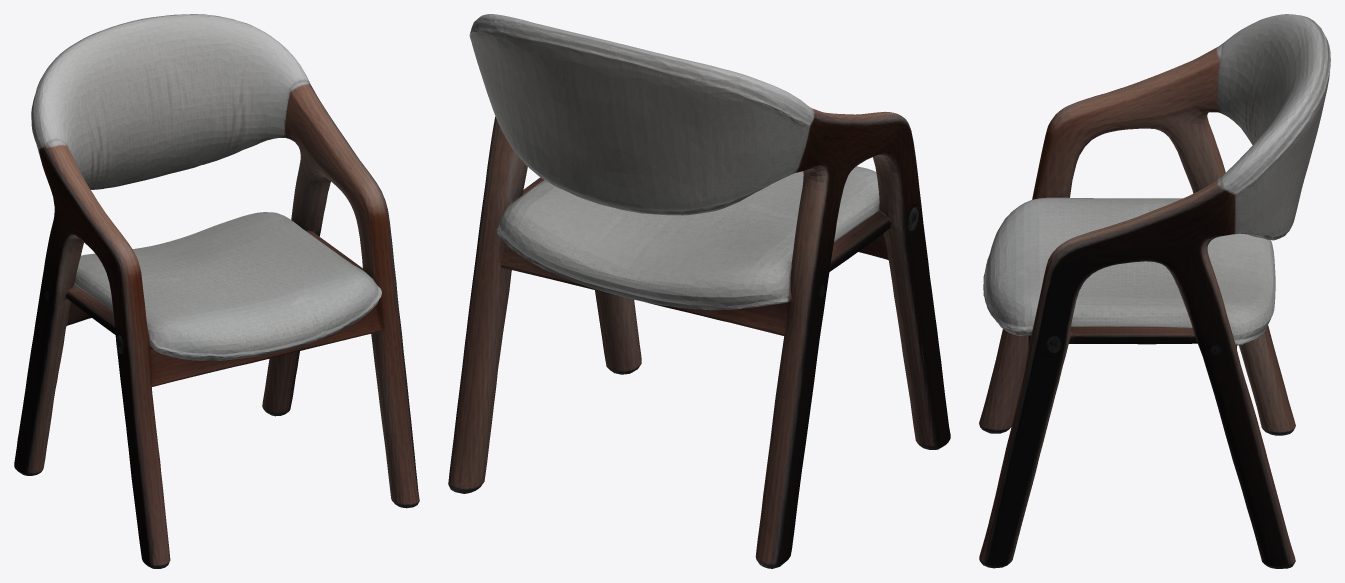
3 renders of one model, left to right at view 1: azimuth 30°, elevation 25°; view 2: azimuth 150°, elevation 25°; view 3: azimuth 270°, elevation 25°, orthographic. The views are drawn at different scales.
Parts seen in each view (by area): view 1: world; view 2: world; view 3: world.
Part boxes in pixels (left/top/right/bottom): world: left=14, top=14, right=419, bottom=568; world: left=448, top=14, right=950, bottom=568; world: left=979, top=14, right=1330, bottom=568.
Size of the model in its own units: 0.6984 by 0.9999 by 0.7122.
1 material, 1 textured.
